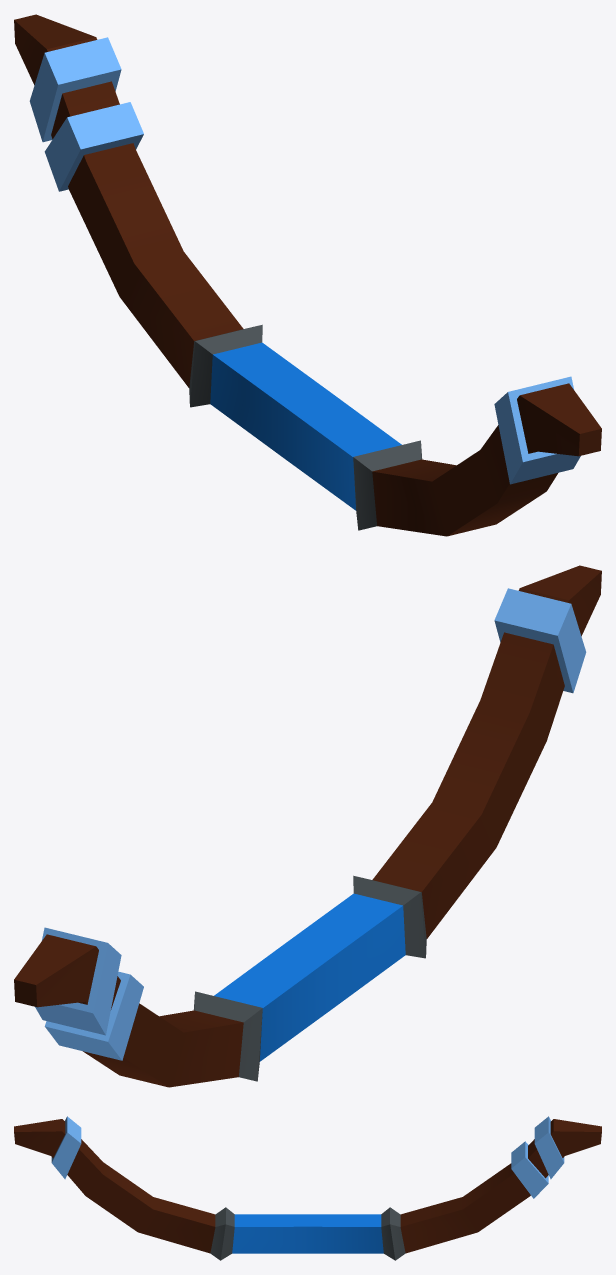
The model's file is Bow 01.FBX.
3 renders of one model, top to bottom at view 1: azimuth 30°, elevation 25°; view 2: azimuth 150°, elevation 25°; view 3: azimuth 270°, elevation 25°, orthographic. The views are drawn at different scales.
Parts seen in each view (by area): view 1: Bow 01; view 2: Bow 01; view 3: Bow 01.
Part boxes in pixels (x1,y1,x2,y2): Bow 01: [14, 14, 601, 536]; Bow 01: [14, 565, 601, 1087]; Bow 01: [14, 1116, 601, 1260].
Size of the model in its own units: 7.87 by 27.36 by 114.
Materials: 1 (1 with a texture image).
